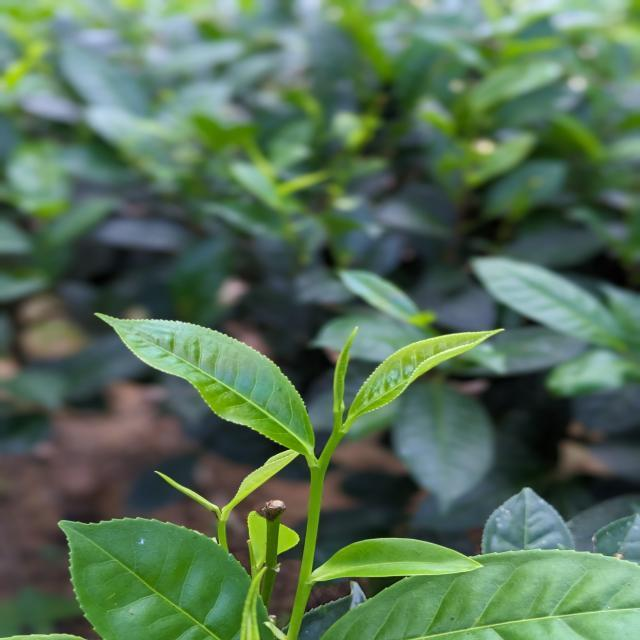Stem: (312, 463, 325, 482), (216, 519, 227, 529)
